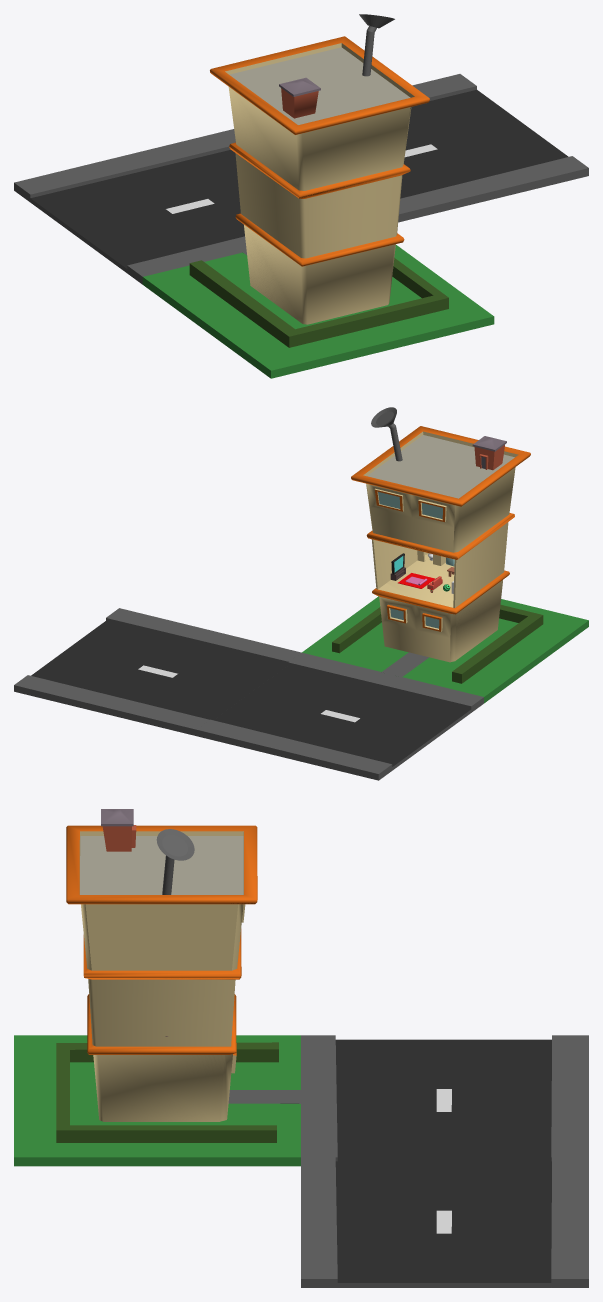
Rendered from Gamejam.fbx.
The picture shows the model from 3 angles, top to bottom: view 1: azimuth 30°, elevation 25°; view 2: azimuth 150°, elevation 25°; view 3: azimuth 270°, elevation 25°; orthographic projection. The views are drawn at different scales.
Visible parts, largest first — view 1: Building, Plane.001, Plane.002, Grass, GrassPatch, Exit, Antena; view 2: Building, Plane.001, Plane.002, Grass, GrassPatch, Exit, Antena; view 3: Building, Plane.002, Plane.001, Grass, GrassPatch, Exit, Antena.
Boxes of the visible parts, <box> form: Building: <box>210,36,429,324</box>; Plane.001: <box>14,129,246,284</box>; Plane.002: <box>398,74,588,222</box>; Grass: <box>142,245,494,378</box>; GrassPatch: <box>189,258,448,347</box>; Exit: <box>279,77,320,118</box>; Antena: <box>359,14,394,76</box>; Building: <box>351,426,530,662</box>; Plane.001: <box>196,652,483,780</box>; Plane.002: <box>14,608,301,735</box>; Grass: <box>302,596,588,703</box>; GrassPatch: <box>332,605,543,683</box>; Exit: <box>472,436,506,470</box>; Antena: <box>371,407,402,461</box>; Building: <box>66,825,257,1121</box>; Plane.002: <box>301,1157,588,1287</box>; Plane.001: <box>301,1035,588,1161</box>; Grass: <box>14,1035,301,1166</box>; GrassPatch: <box>56,1042,278,1142</box>; Exit: <box>101,809,136,851</box>; Antena: <box>156,829,194,894</box>.
Bounding box in the file's own units: 34240 × 20075 × 34170.
